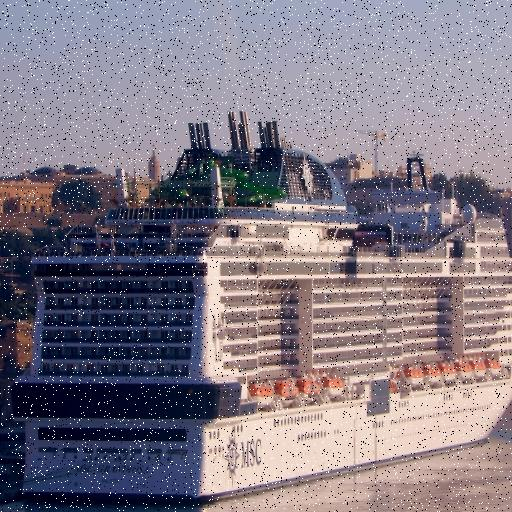cruises: (19, 110, 512, 508)
